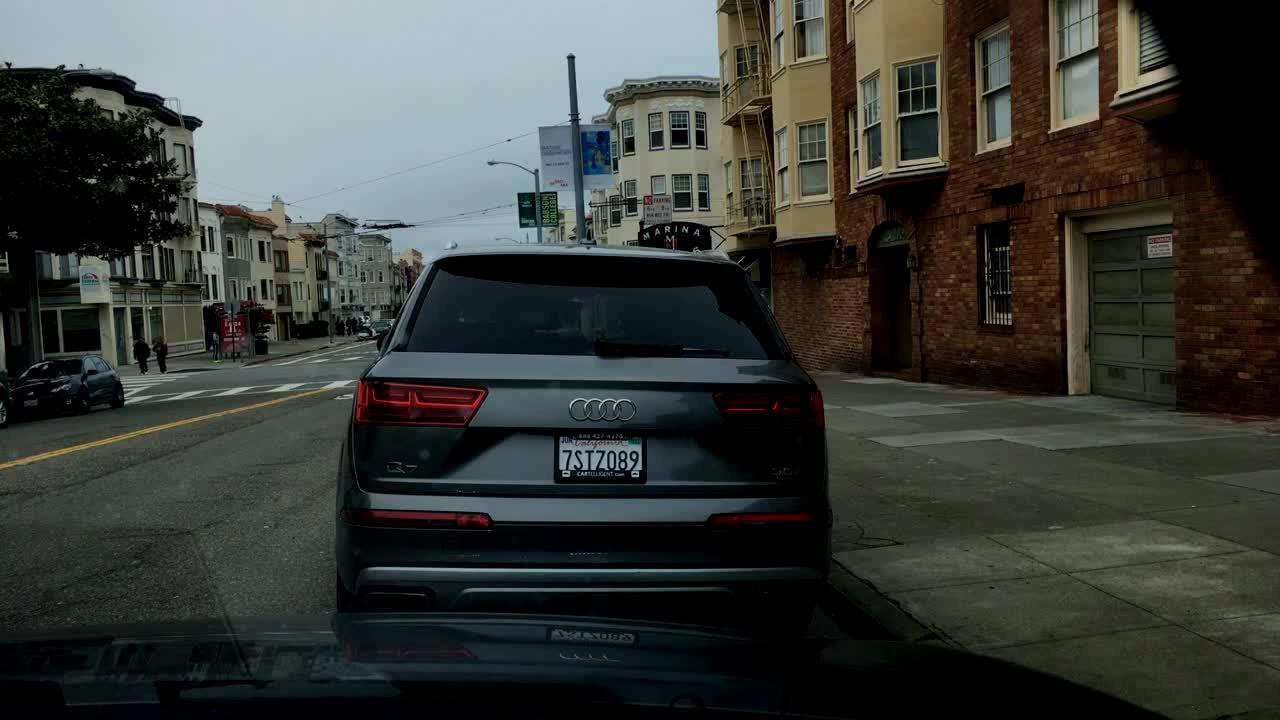Audi: (565, 385, 650, 427)
